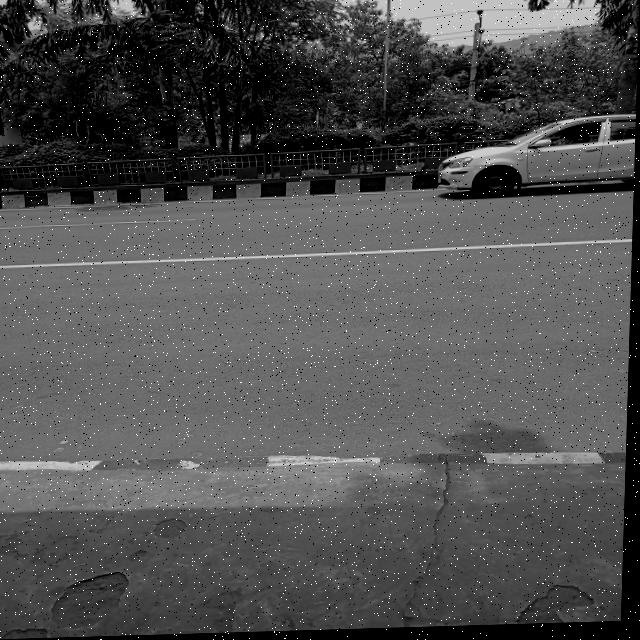car: (424, 114, 637, 214)
